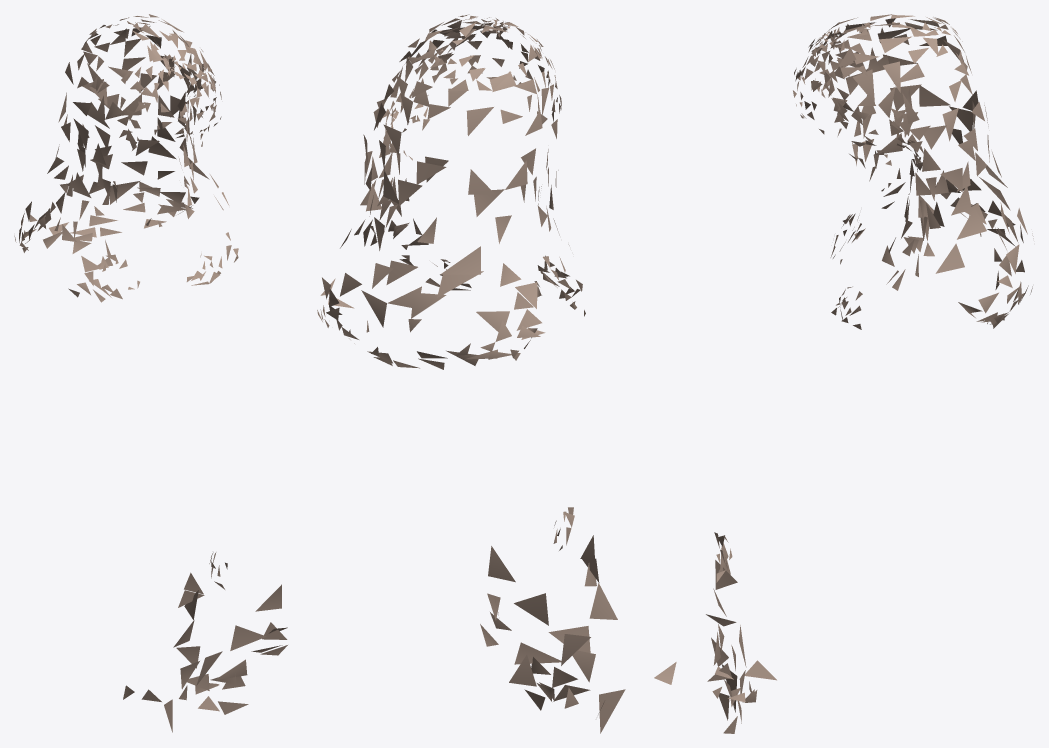
The model's file is female_hair_07_lod2.glb.
The picture shows the model from 3 angles, left to right: view 1: azimuth 30°, elevation 25°; view 2: azimuth 150°, elevation 25°; view 3: azimuth 270°, elevation 25°; orthographic projection. The views are drawn at different scales.
Visible parts, largest first — view 1: female-hair-07; view 2: female-hair-07; view 3: female-hair-07.
Part boxes in pixels (left/top/right/bottom): female-hair-07: left=14, top=14, right=287, bottom=732; female-hair-07: left=317, top=14, right=676, bottom=733; female-hair-07: left=706, top=14, right=1033, bottom=733.
Size of the model in its own units: 0.2585 by 0.8666 by 0.3609.
